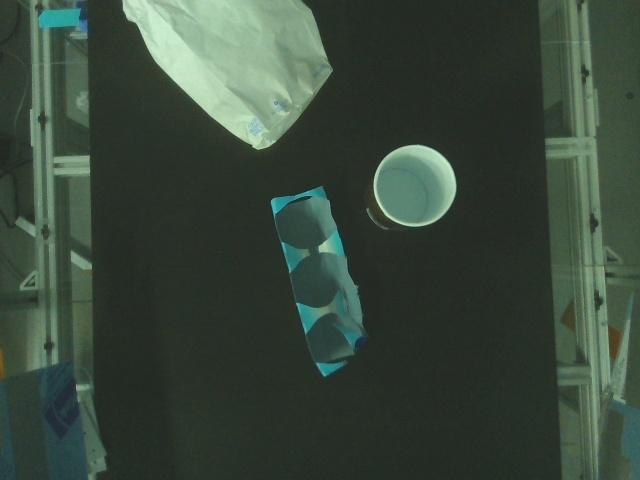cardboard: (269, 184, 373, 379), (361, 141, 460, 236)
paper: (121, 0, 335, 151)
